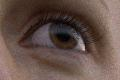eye: (50, 24, 79, 49)
